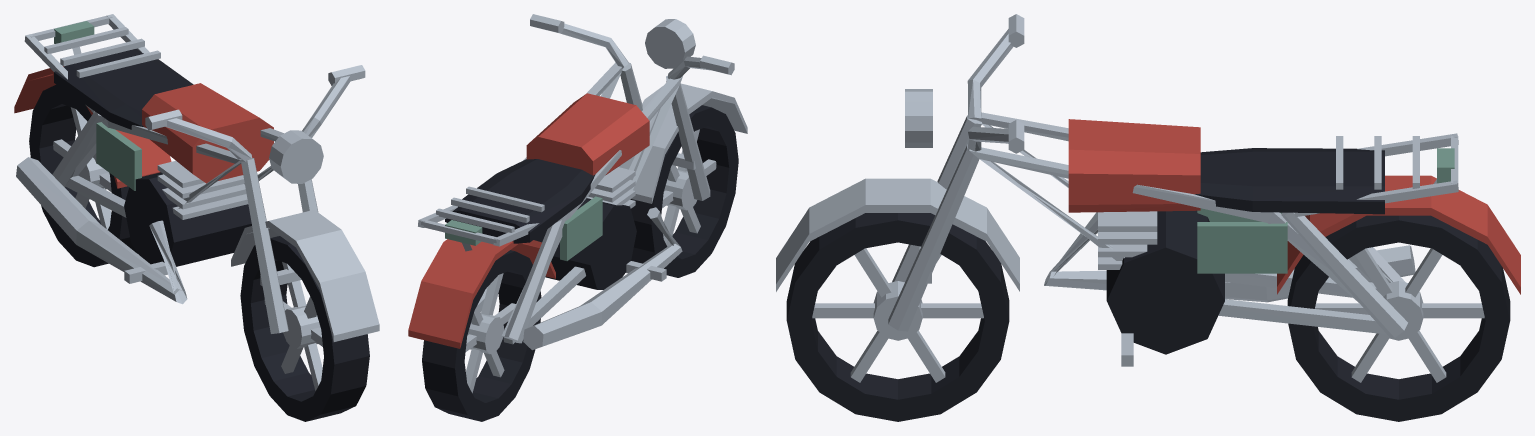
File: rustbucket-400.glb
3 renders of one model, left to right at view 1: azimuth 30°, elevation 25°; view 2: azimuth 150°, elevation 25°; view 3: azimuth 270°, elevation 25°, orthographic. The views are drawn at different scales.
Parts seen in each view (by area): view 1: bike_body, fork_mesh, wheel_front, wheel_rear; view 2: bike_body, wheel_rear, wheel_front, fork_mesh; view 3: bike_body, wheel_front, wheel_rear, fork_mesh.
Boxes of the visible parts, bbox=[...] form: bike_body: bbox=[14, 14, 283, 304]; fork_mesh: bbox=[145, 65, 379, 341]; wheel_front: bbox=[240, 236, 369, 421]; wheel_rear: bbox=[29, 84, 138, 267]; bike_body: bbox=[408, 62, 683, 350]; wheel_rear: bbox=[422, 250, 541, 421]; wheel_front: bbox=[630, 105, 738, 277]; fork_mesh: bbox=[530, 14, 747, 203]; bike_body: bbox=[969, 112, 1520, 366]; wheel_front: bbox=[786, 213, 1009, 421]; wheel_rear: bbox=[1287, 215, 1510, 421]; fork_mesh: bbox=[776, 14, 1024, 331].
Size of the model in its own units: 0.84 by 1.07 by 2.14.
